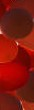Balloon: (1, 7, 32, 38), (1, 63, 29, 91), (1, 35, 17, 63)
